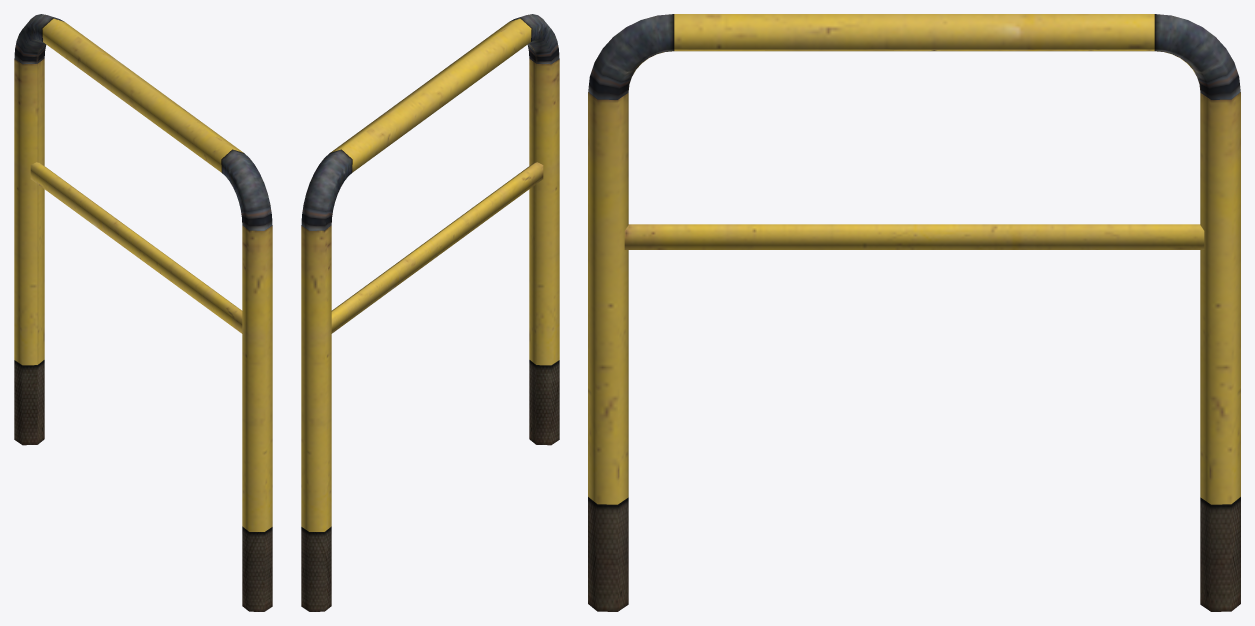
File: FLO_Banister_Straight_1m.FBX
3 views of the same model, side by side, from view 1: azimuth 30°, elevation 25°; view 2: azimuth 150°, elevation 25°; view 3: azimuth 270°, elevation 25° (orthographic). The views are drawn at different scales.
Parts seen in each view (by area): view 1: FLO_Banister_Straight_1m; view 2: FLO_Banister_Straight_1m; view 3: FLO_Banister_Straight_1m.
Part boxes in pixels (x1,y1,x2,y2): FLO_Banister_Straight_1m: (14,14,272,611); FLO_Banister_Straight_1m: (301,14,559,611); FLO_Banister_Straight_1m: (588,14,1240,611).
Size of the model in its own units: 5.4 by 97.55 by 97.8.
Materials: 1 (1 with a texture image).
